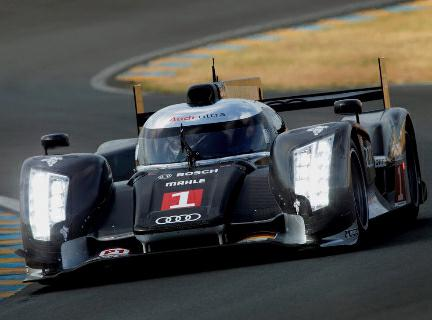奥迪-R18: (19, 69, 425, 293)
